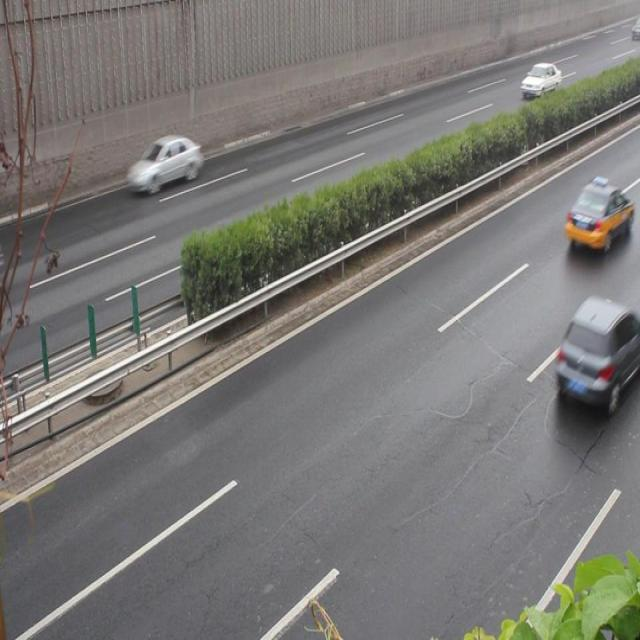car: (552, 296, 640, 408), (125, 134, 203, 194), (564, 181, 628, 253), (520, 61, 559, 103)
